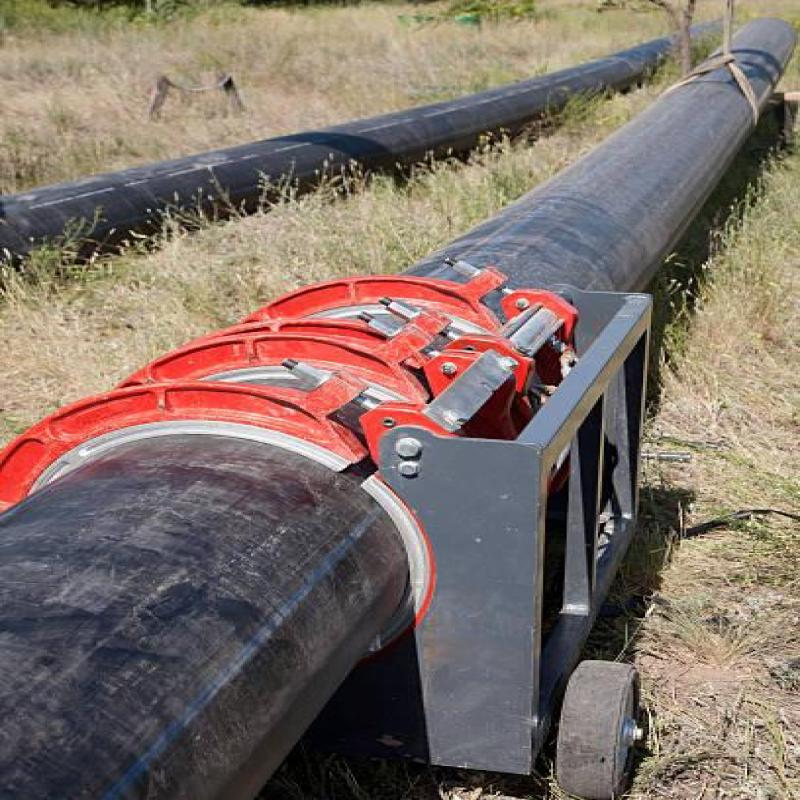Healthy: (12, 10, 800, 800)
